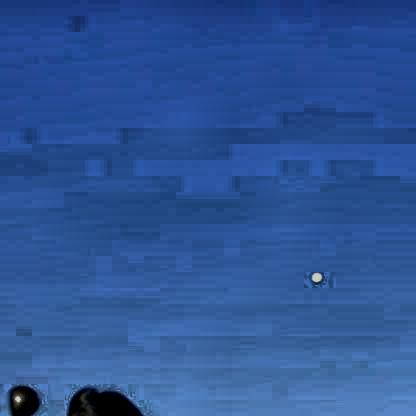golfball: (307, 268, 321, 282)
